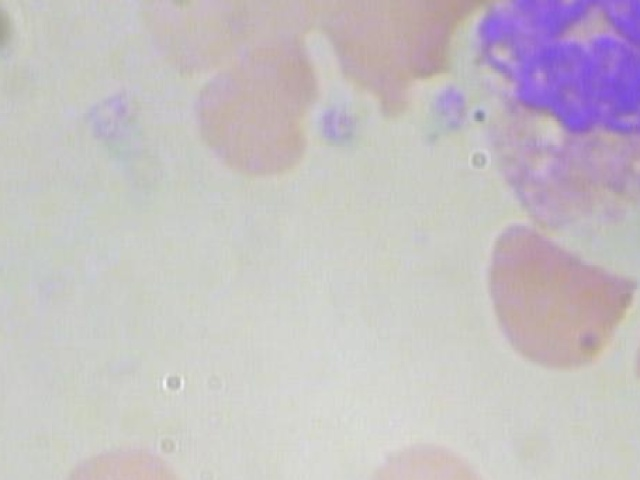Platelets: (420, 79, 469, 137), (316, 103, 362, 153)
RBC: (174, 31, 344, 197), (473, 213, 640, 379), (46, 436, 202, 480), (349, 438, 504, 480), (0, 198, 29, 361)
WBC: (458, 0, 640, 233)
